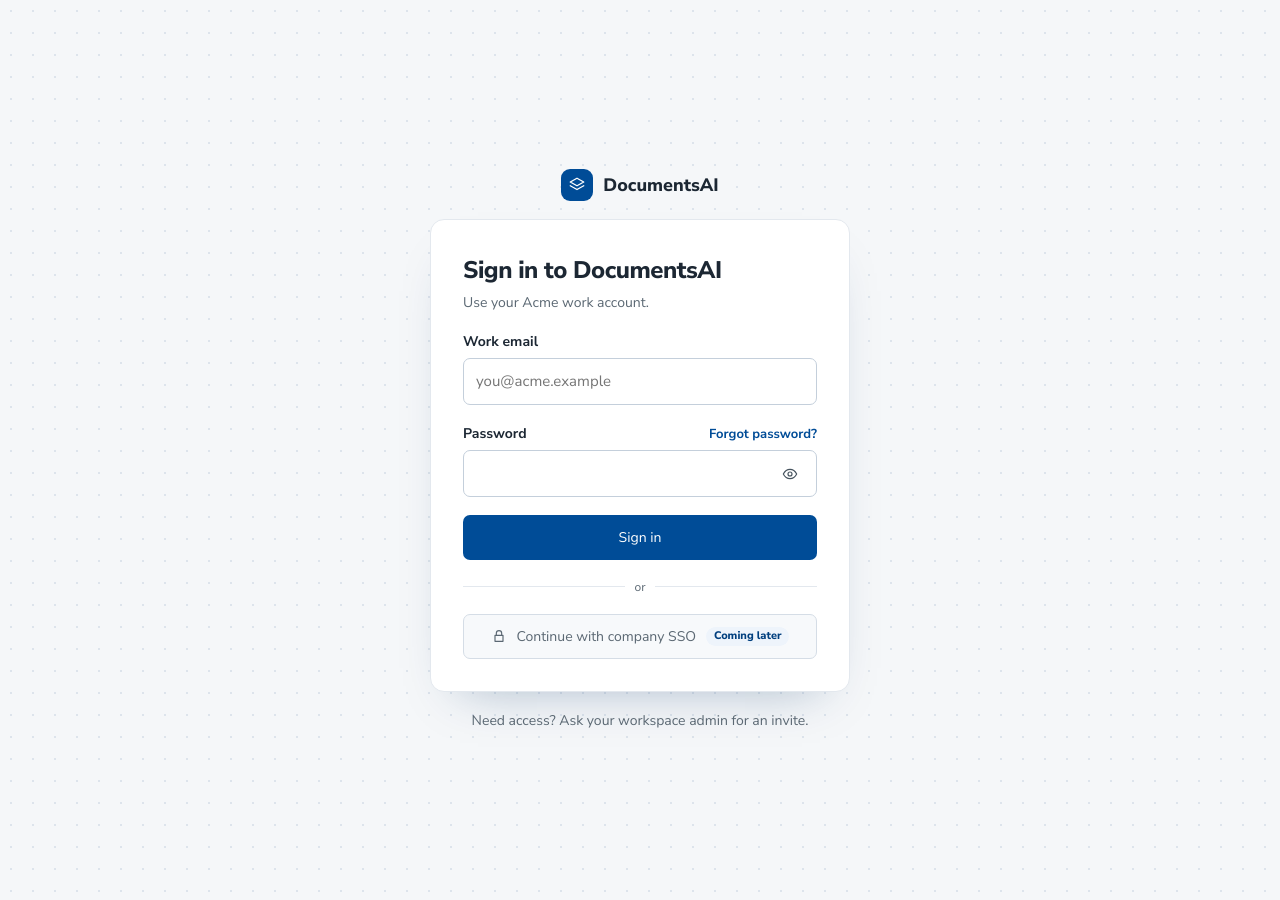
it: LoginPage › clears the error once the user types
The width and height of the screenshot is (1280, 900).
Click the button "Sign in": (640, 537) [463, 515, 817, 560]
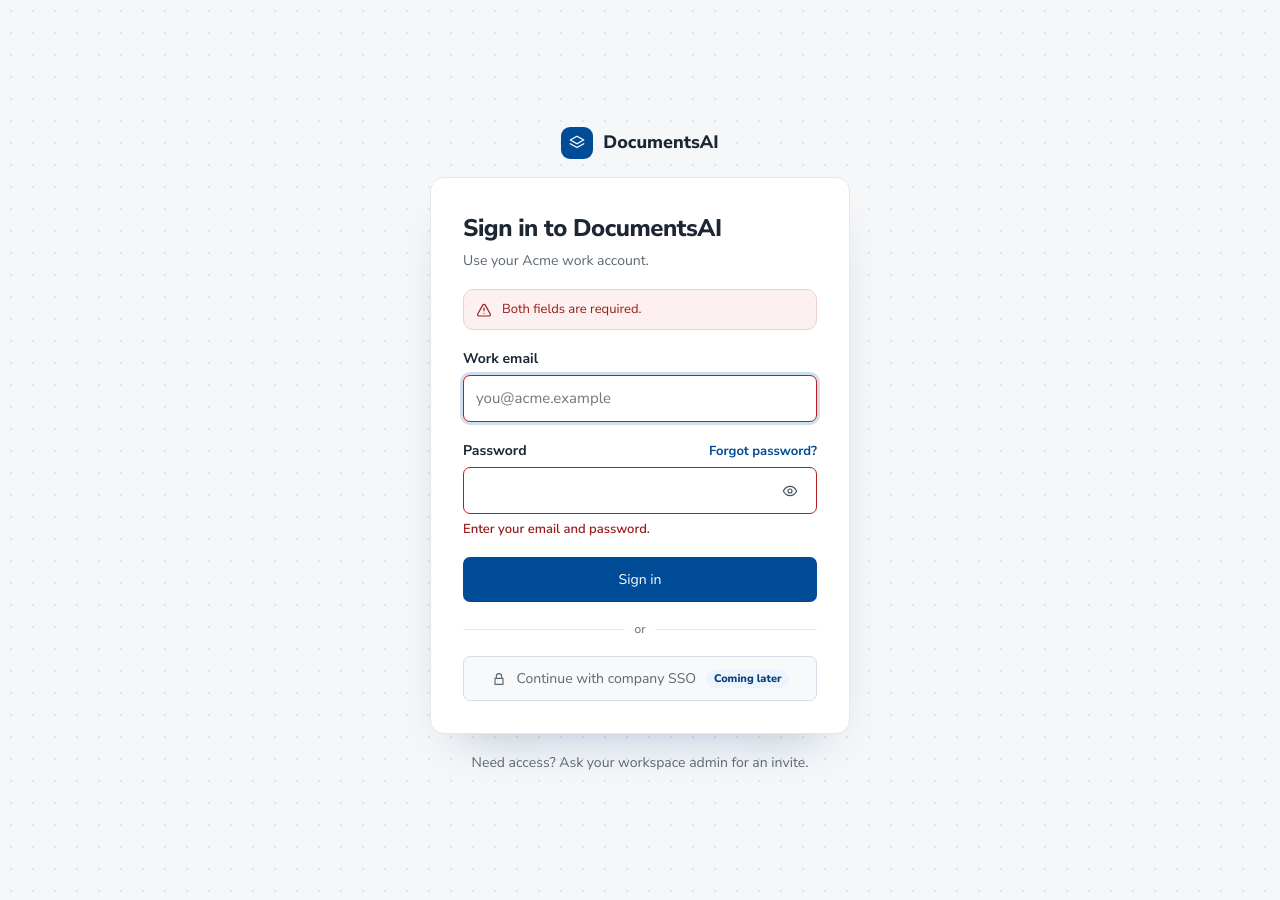
In the field labelled "Work email": (640, 399) [476, 376, 804, 421], type "a"
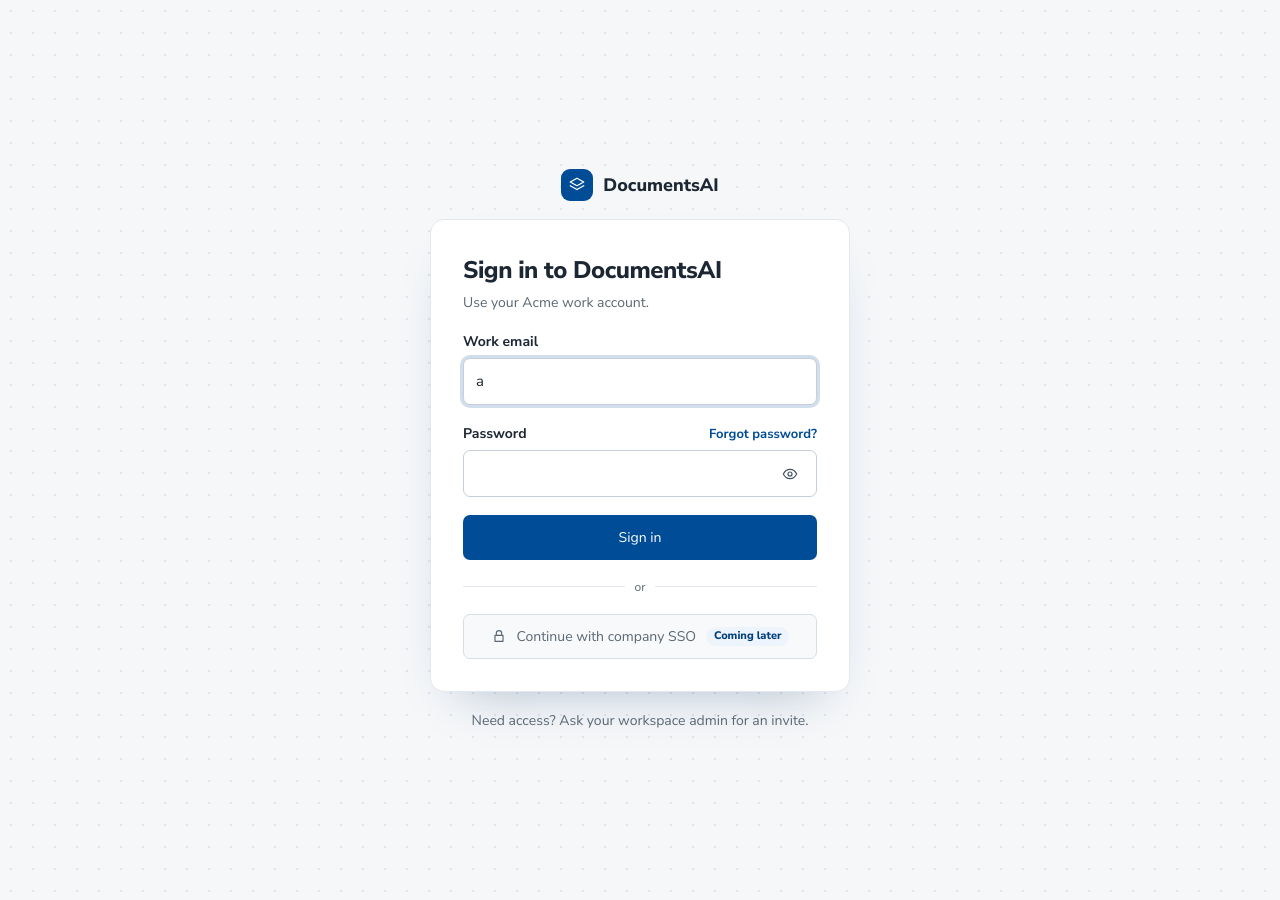
Result: the message "Both fields are required." is gone
